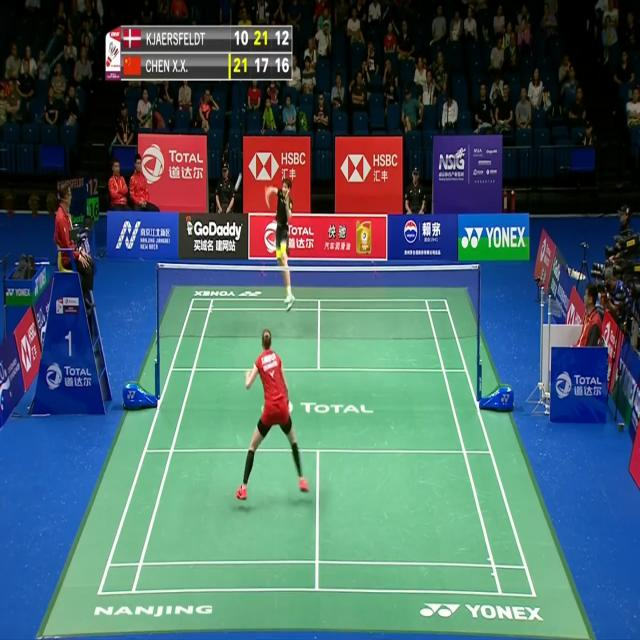Player1: (227, 328, 317, 501)
Player2: (261, 168, 308, 314)
